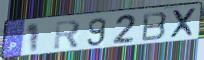1: (24, 21, 39, 54)
2: (112, 13, 138, 47)
9: (86, 17, 108, 47)
B: (140, 11, 169, 43)
R: (53, 19, 83, 52)
X: (169, 7, 198, 40)
